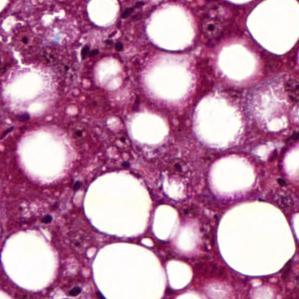steatosis: (218, 198, 297, 277)
